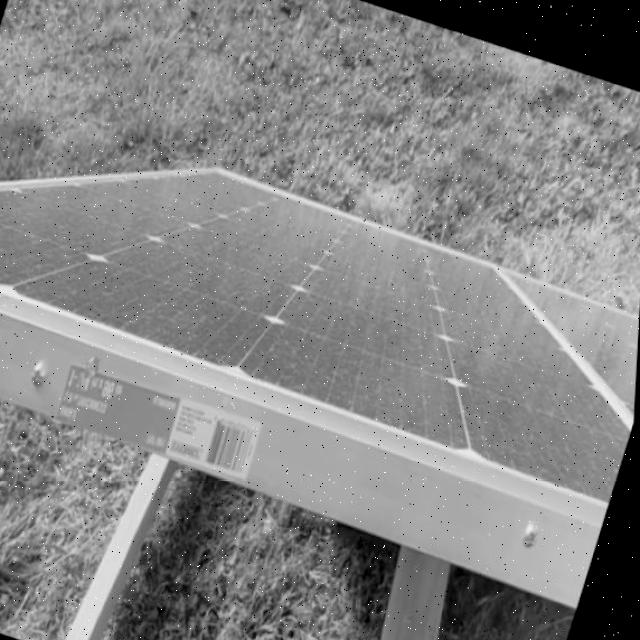Anomaly Solar Panel: (0, 163, 640, 489)
Surface Contaminant: (0, 166, 640, 487)
